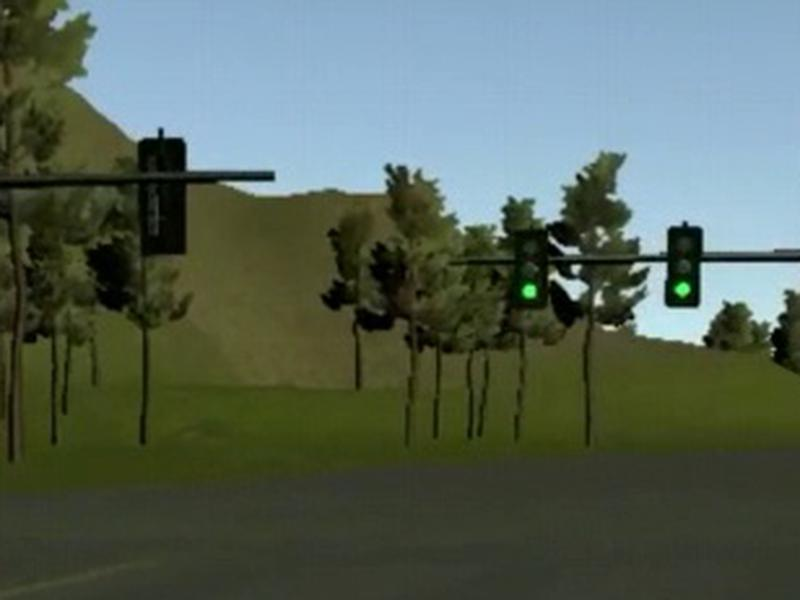Green: (664, 224, 703, 308), (514, 228, 548, 307)
